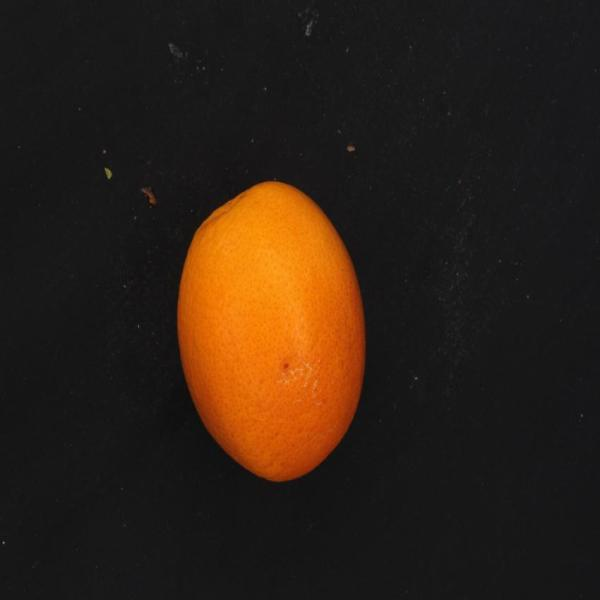Sana: (172, 175, 380, 486)
